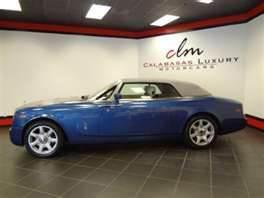Car: (6, 71, 259, 162)
